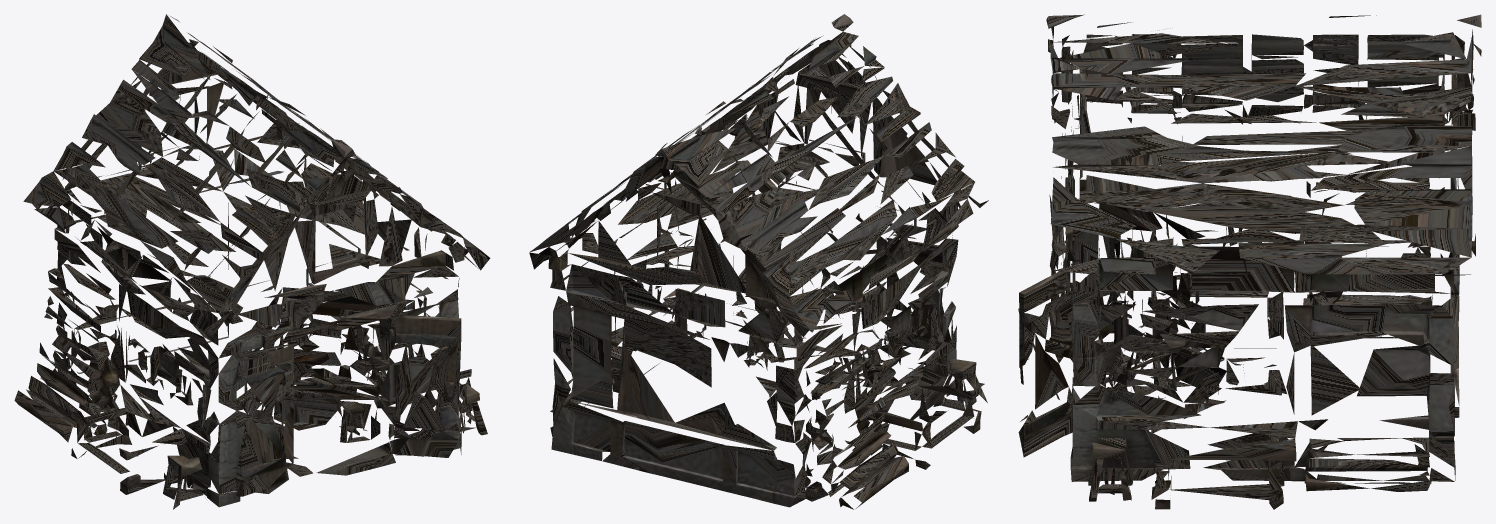
The model's file is bld_ws_carpenter_a_LOD1.glb.
3 renders of one model, left to right at view 1: azimuth 30°, elevation 25°; view 2: azimuth 150°, elevation 25°; view 3: azimuth 270°, elevation 25°, orthographic. The views are drawn at different scales.
Parts seen in each view (by area): view 1: geometry_0; view 2: geometry_0; view 3: geometry_0.
Boxes of the visible parts, x1,y1,x2,y2 form: geometry_0: [14, 14, 490, 509]; geometry_0: [529, 14, 988, 509]; geometry_0: [1018, 14, 1481, 509].
Size of the model in its own units: 6.54 by 5.99 by 6.32.
1 material, 1 textured.
